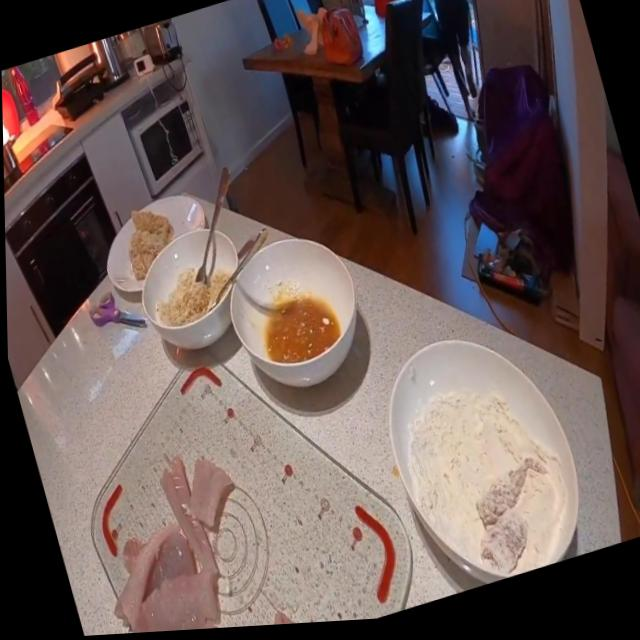fire: (1, 70, 20, 166)
